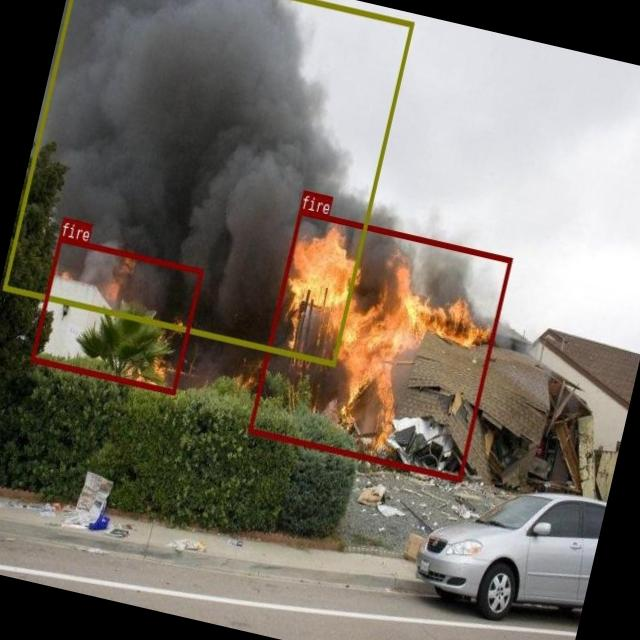fire: (247, 208, 511, 481), (29, 236, 202, 394)
smoke: (1, 0, 412, 365)
